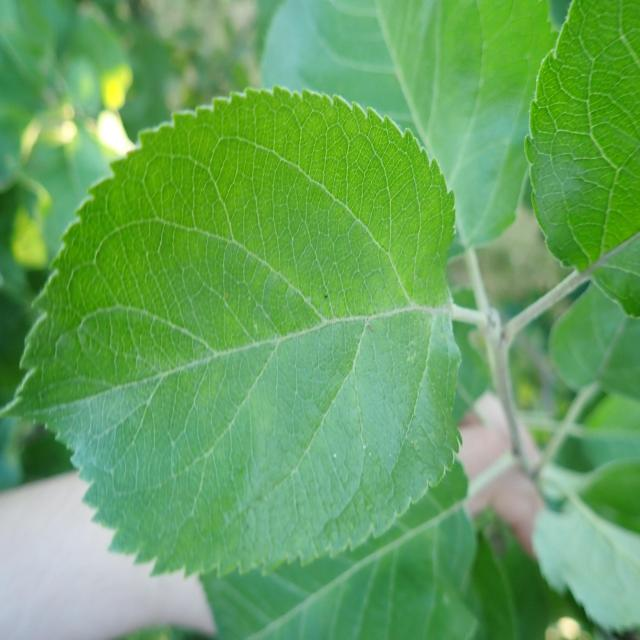healthy: (1, 86, 464, 582), (260, 1, 558, 250), (200, 454, 480, 640), (523, 0, 640, 318)
